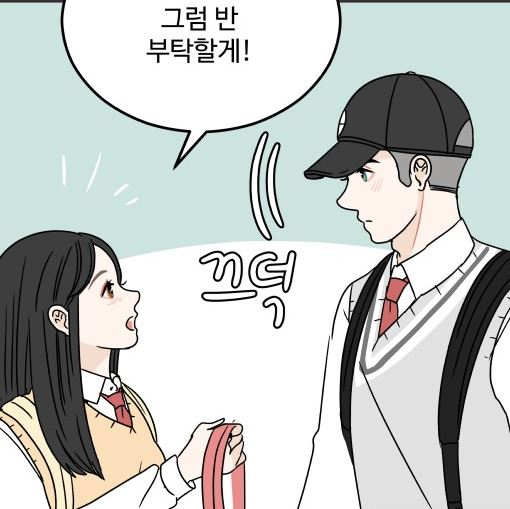hat: (304, 73, 475, 166)
